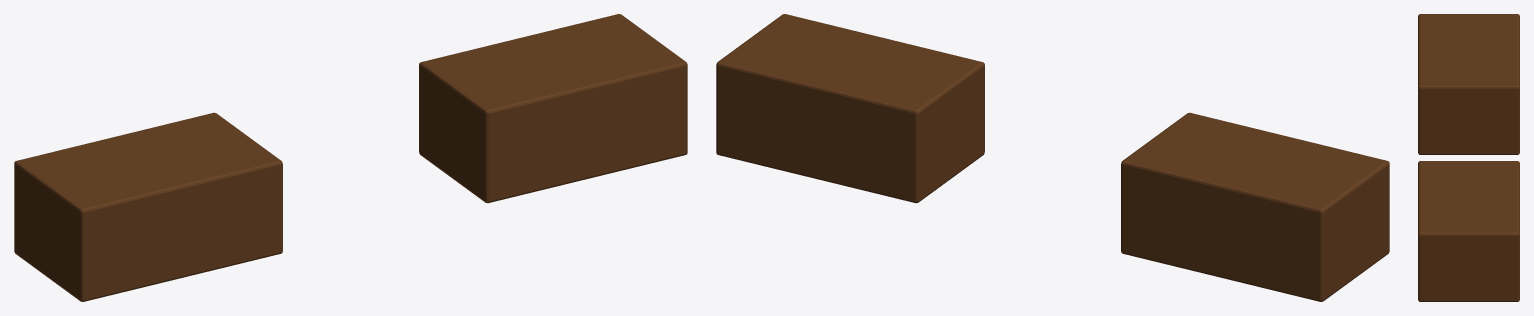
File: anti_cavalry_stakes_gap_LOD2.glb
3 views of the same model, side by side, from view 1: azimuth 30°, elevation 25°; view 2: azimuth 150°, elevation 25°; view 3: azimuth 270°, elevation 25° (orthographic). The views are drawn at different scales.
Parts seen in each view (by area): view 1: LOD2_StakeSection, LOD2_StakeSection.001; view 2: LOD2_StakeSection, LOD2_StakeSection.001; view 3: LOD2_StakeSection, LOD2_StakeSection.001.
Part boxes in pixels (x1,y1,x2,y2): LOD2_StakeSection: [14, 112, 282, 301]; LOD2_StakeSection.001: [419, 14, 687, 203]; LOD2_StakeSection: [1121, 112, 1389, 301]; LOD2_StakeSection.001: [716, 14, 984, 203]; LOD2_StakeSection: [1418, 14, 1519, 154]; LOD2_StakeSection.001: [1418, 161, 1519, 301].
Bounding box in the file's own units: 6.15 × 0.9 × 1.2.
